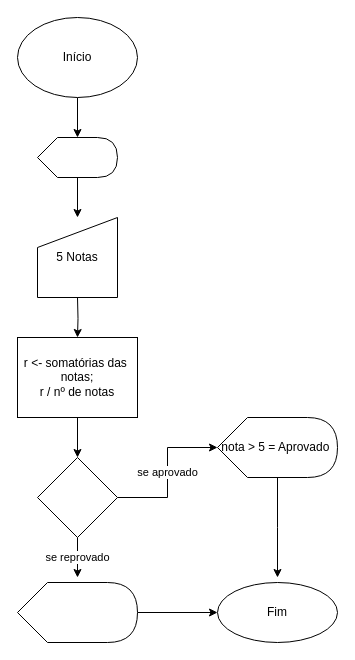
This 355x660 diagram has some shape labels left out. Each missing label, with the centre of its shape:
"nota < 5 = Reprovado" goes at point (77, 612).
"pedir 5 notas" goes at point (77, 157).
"verificação" goes at point (77, 497).
